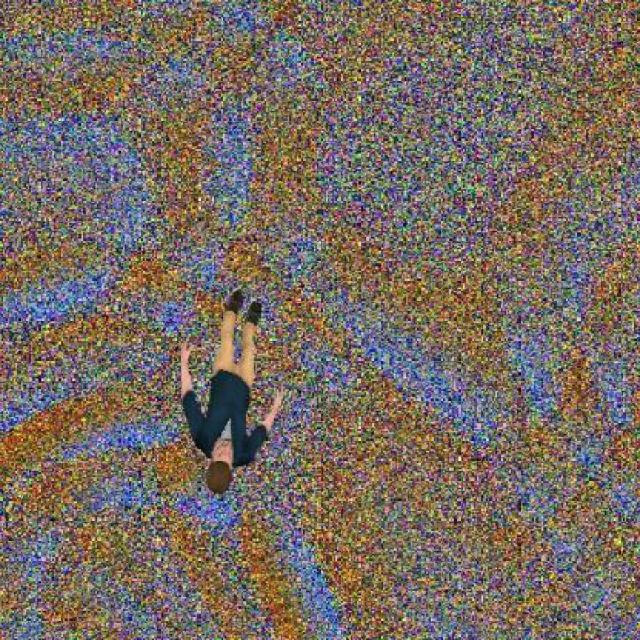Person: (177, 285, 286, 498)
